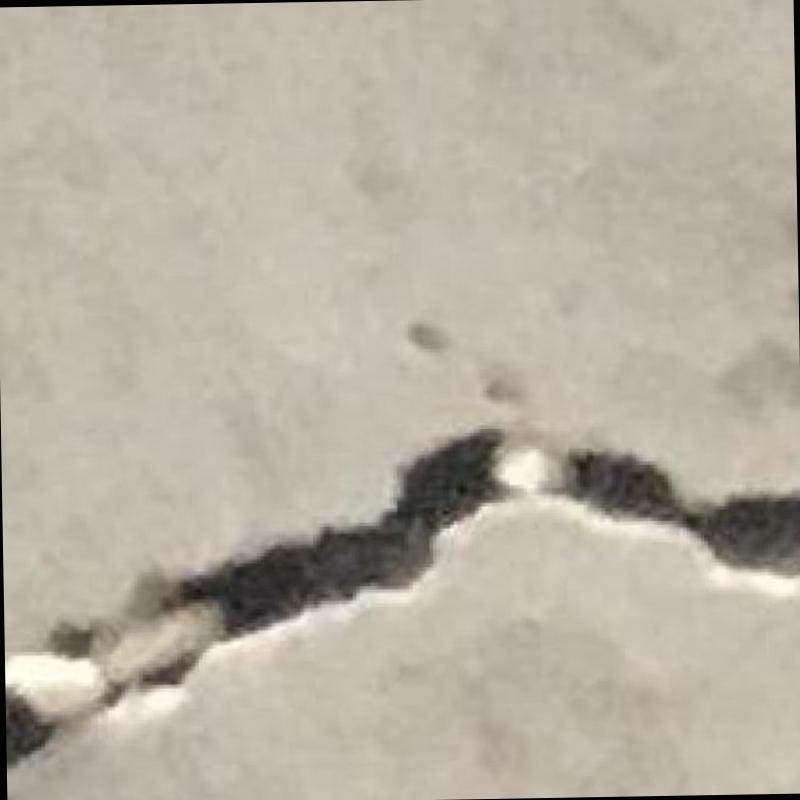crack: (4, 428, 800, 766)
